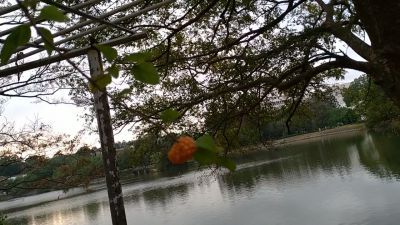eggs: (167, 133, 199, 166)
